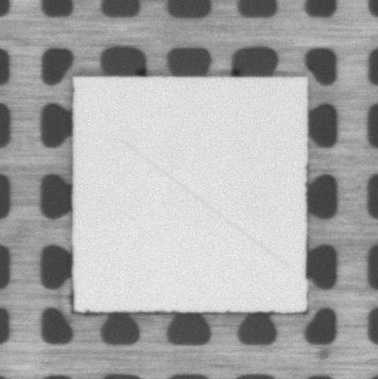DIE_CRACK: (121, 140, 290, 269)
